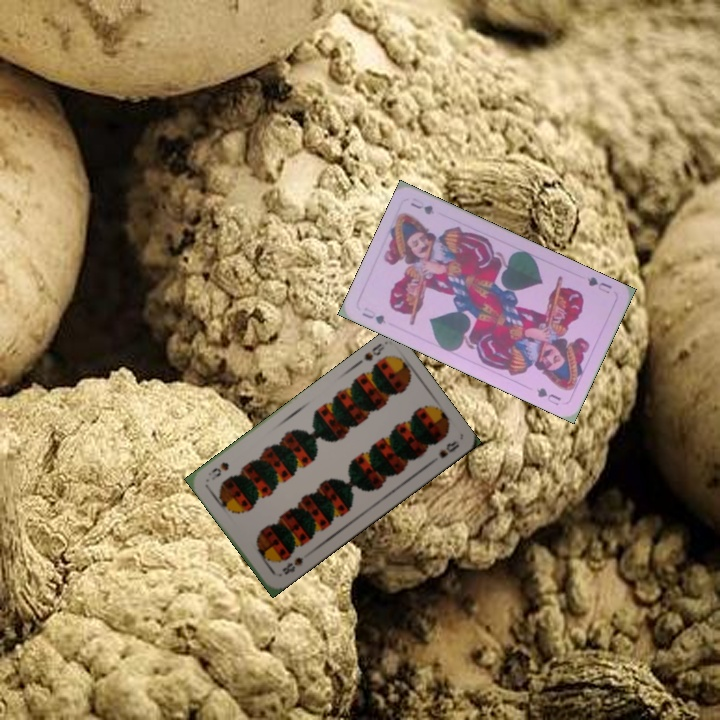GU: (358, 303, 389, 327), (583, 273, 615, 296)
S8: (360, 339, 387, 364), (278, 553, 306, 577)
